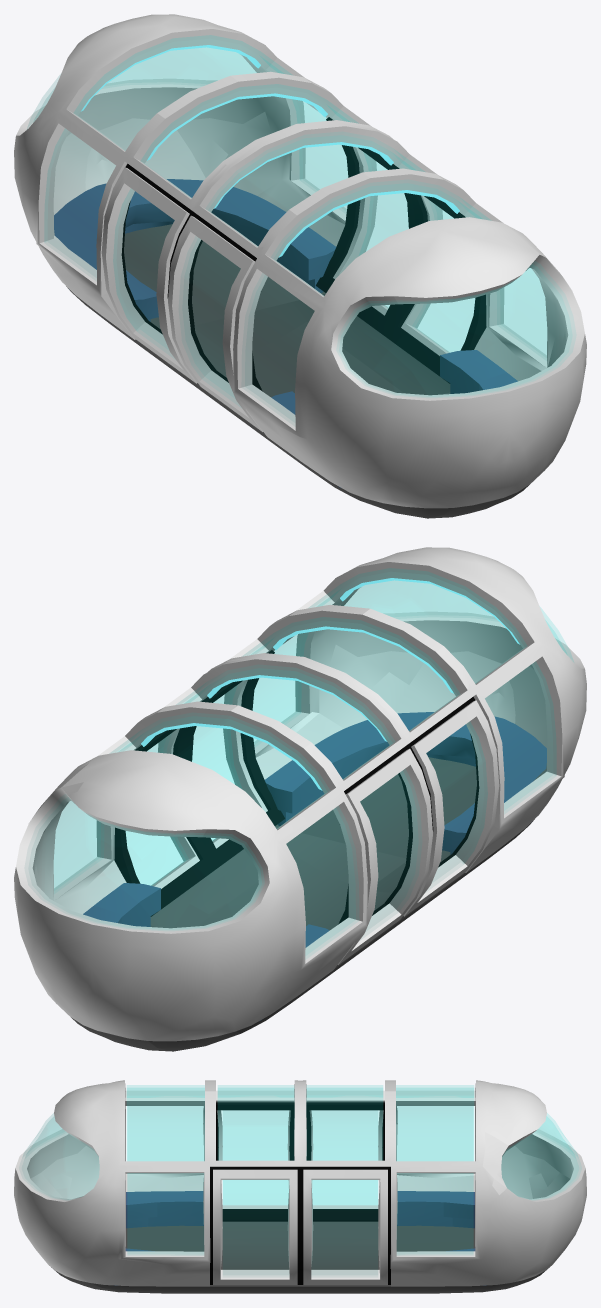
The model's file is Carriage.glb.
3 renders of one model, top to bottom at view 1: azimuth 30°, elevation 25°; view 2: azimuth 150°, elevation 25°; view 3: azimuth 270°, elevation 25°, orthographic. The views are drawn at different scales.
Visible parts, largest first — view 1: Icosphere.001; view 2: Icosphere.001; view 3: Icosphere.001.
Boxes of the visible parts, left/top/right/bottom form: Icosphere.001: left=14, top=14, right=586, bottom=518; Icosphere.001: left=14, top=547, right=586, bottom=1051; Icosphere.001: left=14, top=1080, right=586, bottom=1293.
Size of the model in its own units: 1.91 by 1.87 by 5.11.
